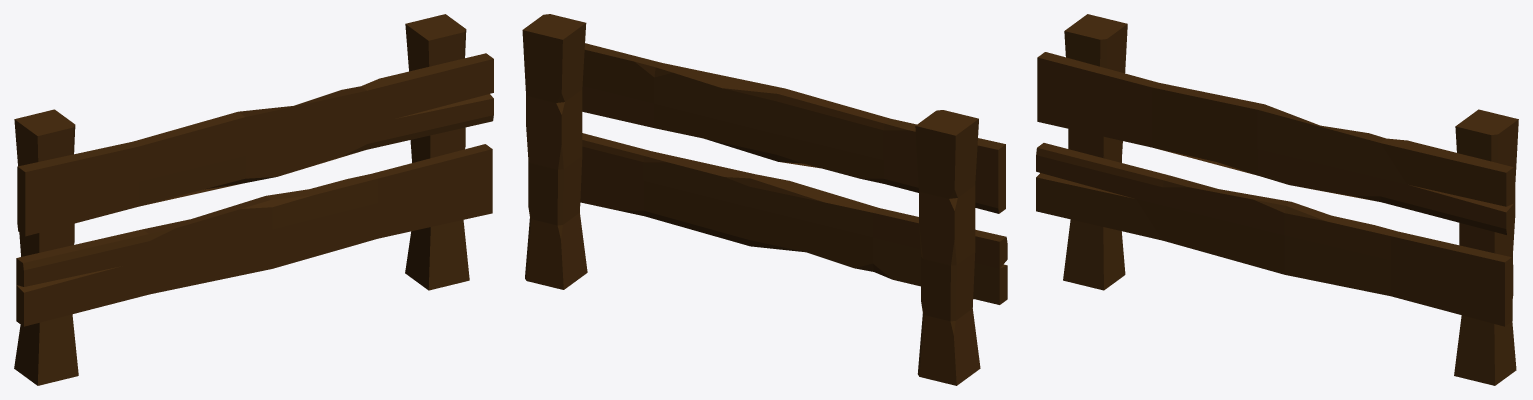
The model's file is fence.fbx.
The picture shows the model from 3 angles, left to right: view 1: azimuth 30°, elevation 25°; view 2: azimuth 150°, elevation 25°; view 3: azimuth 330°, elevation 25°; orthographic projection.
Parts seen in each view (by area): view 1: Plane.003; view 2: Plane.003; view 3: Plane.003.
Part boxes in pixels (x1,y1,x2,y2): Plane.003: (14,14,493,385); Plane.003: (522,14,1007,385); Plane.003: (1036,14,1518,385).
Size of the model in its own units: 391 by 198 by 44.15.
